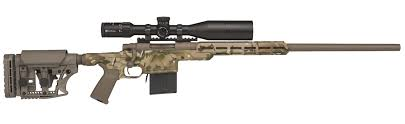Gun: (97, 18, 352, 80)
